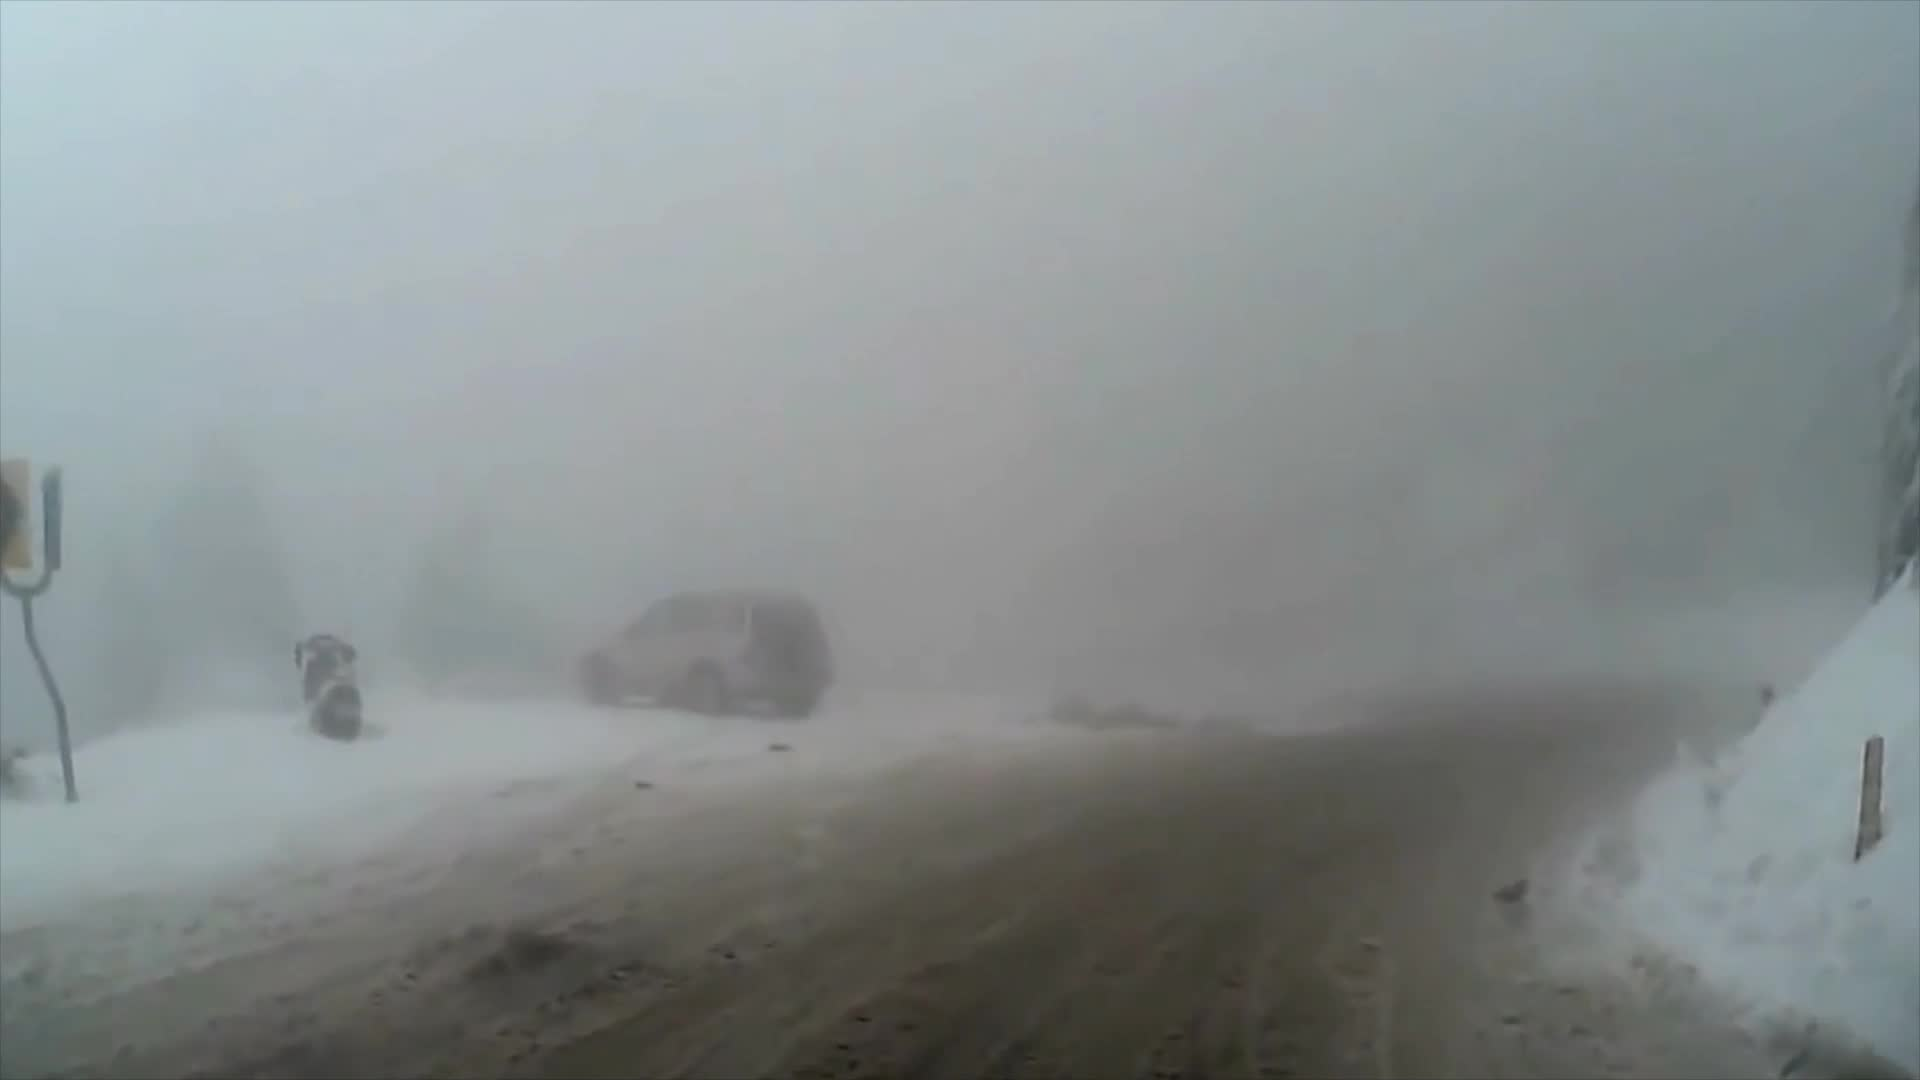vehicle: (574, 591, 829, 719)
